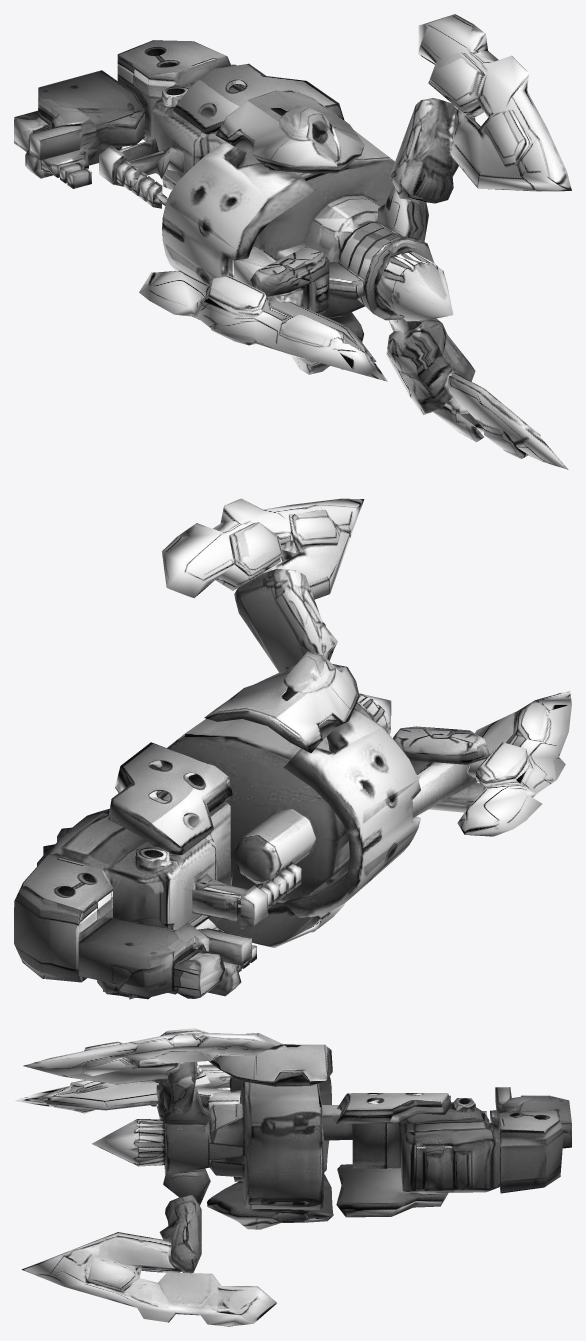
3 renders of one model, top to bottom at view 1: azimuth 30°, elevation 25°; view 2: azimuth 150°, elevation 25°; view 3: azimuth 270°, elevation 25°, orthographic. The views are drawn at different scales.
Parts seen in each view (by area): view 1: gun; view 2: gun; view 3: gun.
Boxes of the visible parts, <box> form: gun: <box>14,14,571,469</box>; gun: <box>14,498,571,999</box>; gun: <box>15,1028,571,1326</box>.
Size of the model in its own units: 1.05 by 1.2 by 2.09.
3 materials, 3 textured.
